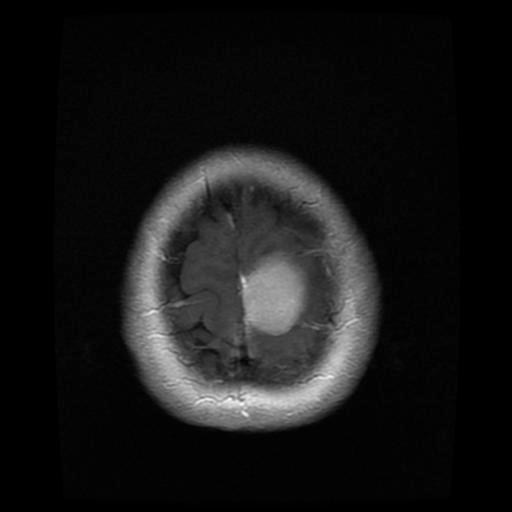Tumour-Meningioma: (229, 252, 325, 354)
